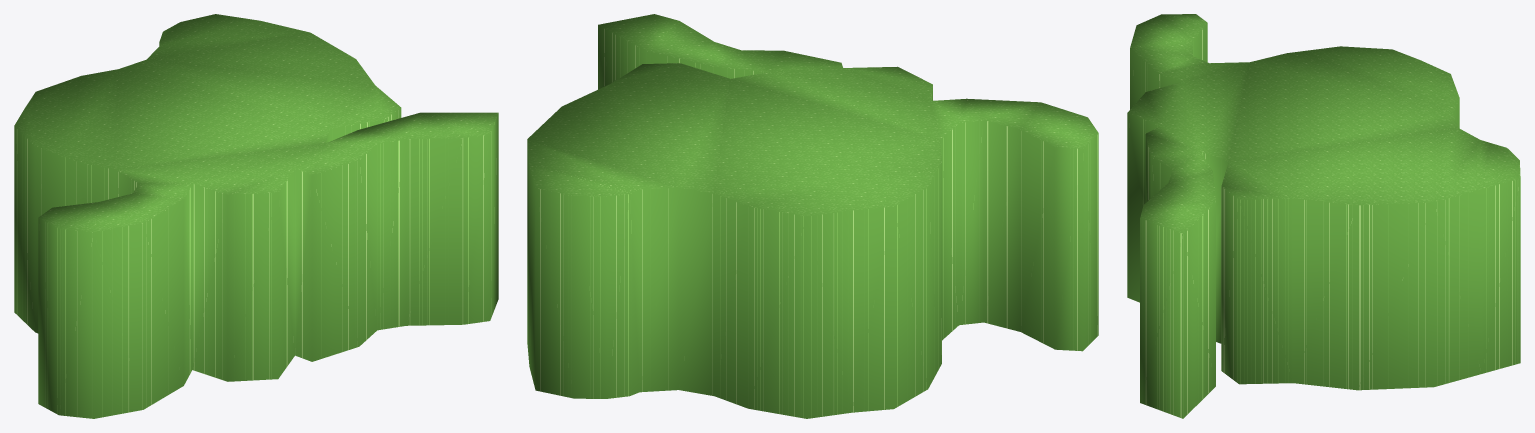
Rendered from Castle_Hill_Bounds.fbx.
The picture shows the model from 3 angles, left to right: view 1: azimuth 30°, elevation 25°; view 2: azimuth 150°, elevation 25°; view 3: azimuth 270°, elevation 25°; orthographic projection. The views are drawn at different scales.
Parts seen in each view (by area): view 1: Castle_Hill_Bounds.001; view 2: Castle_Hill_Bounds.001; view 3: Castle_Hill_Bounds.001.
Boxes of the visible parts, x1,y1,x2,y2 form: Castle_Hill_Bounds.001: [14, 14, 498, 418]; Castle_Hill_Bounds.001: [527, 14, 1098, 418]; Castle_Hill_Bounds.001: [1127, 14, 1520, 418].
Size of the model in its own units: 334 by 134 by 253.
Materials: 1 (1 with a texture image).
